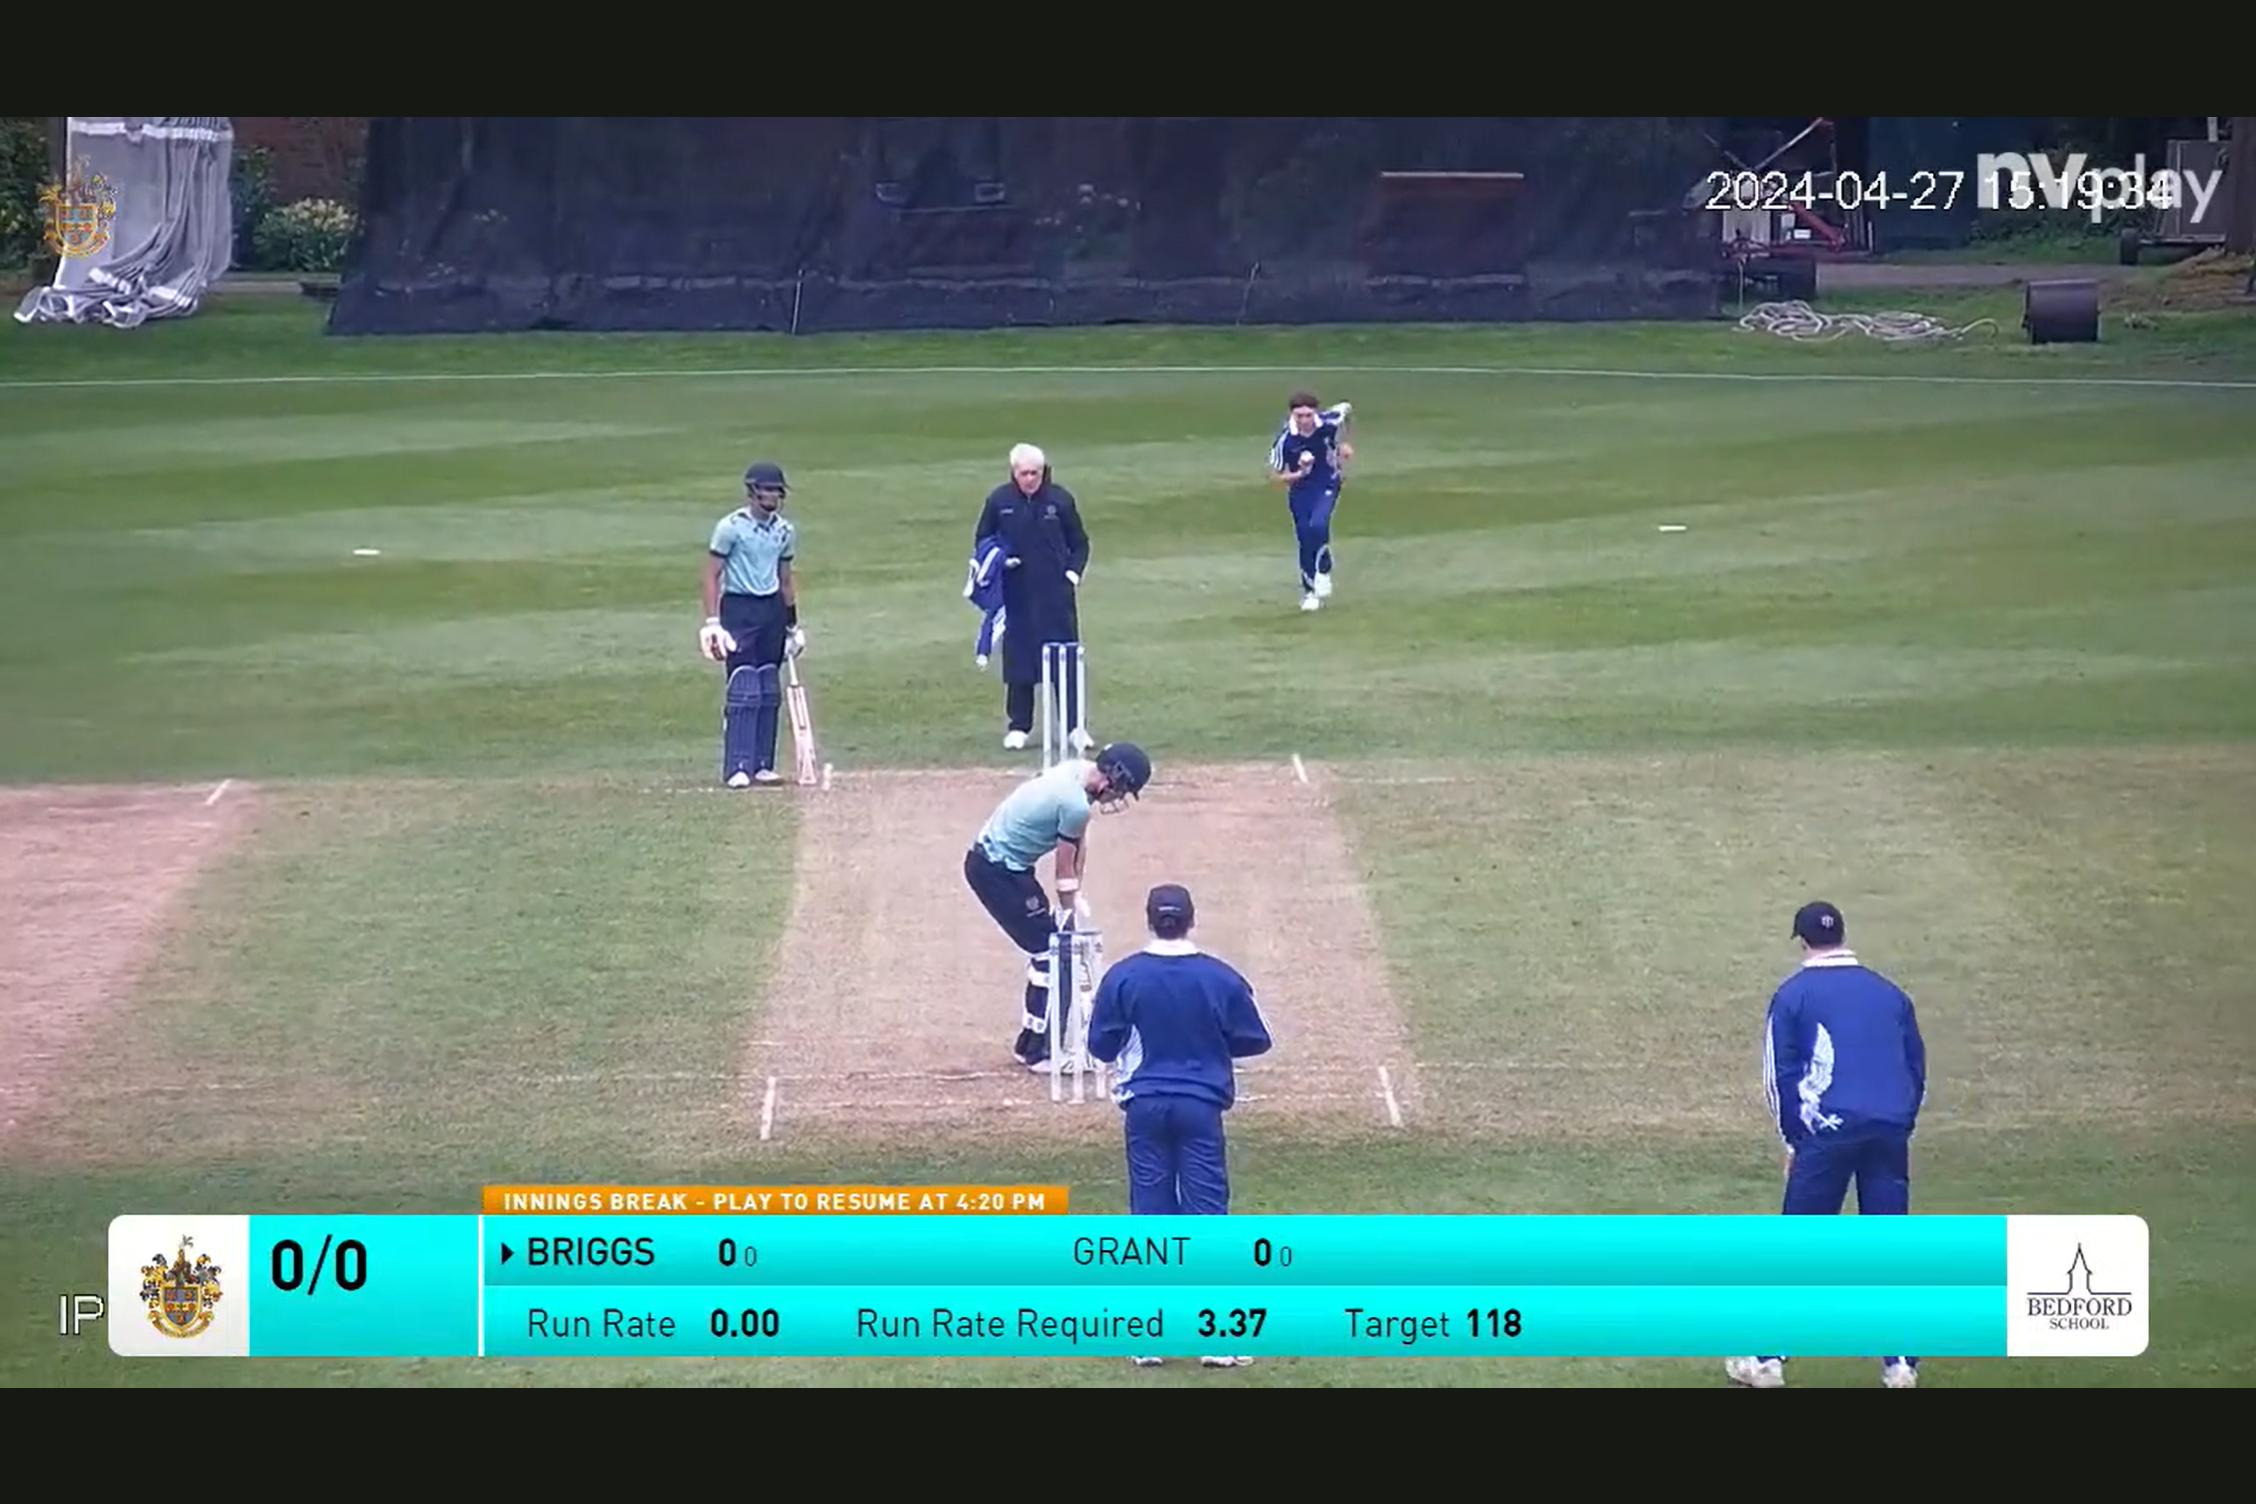batsman: (970, 728, 1167, 974)
bowler running in: (1240, 378, 1385, 631)
non striker: (668, 436, 843, 802)
umpire: (953, 398, 1110, 634)
